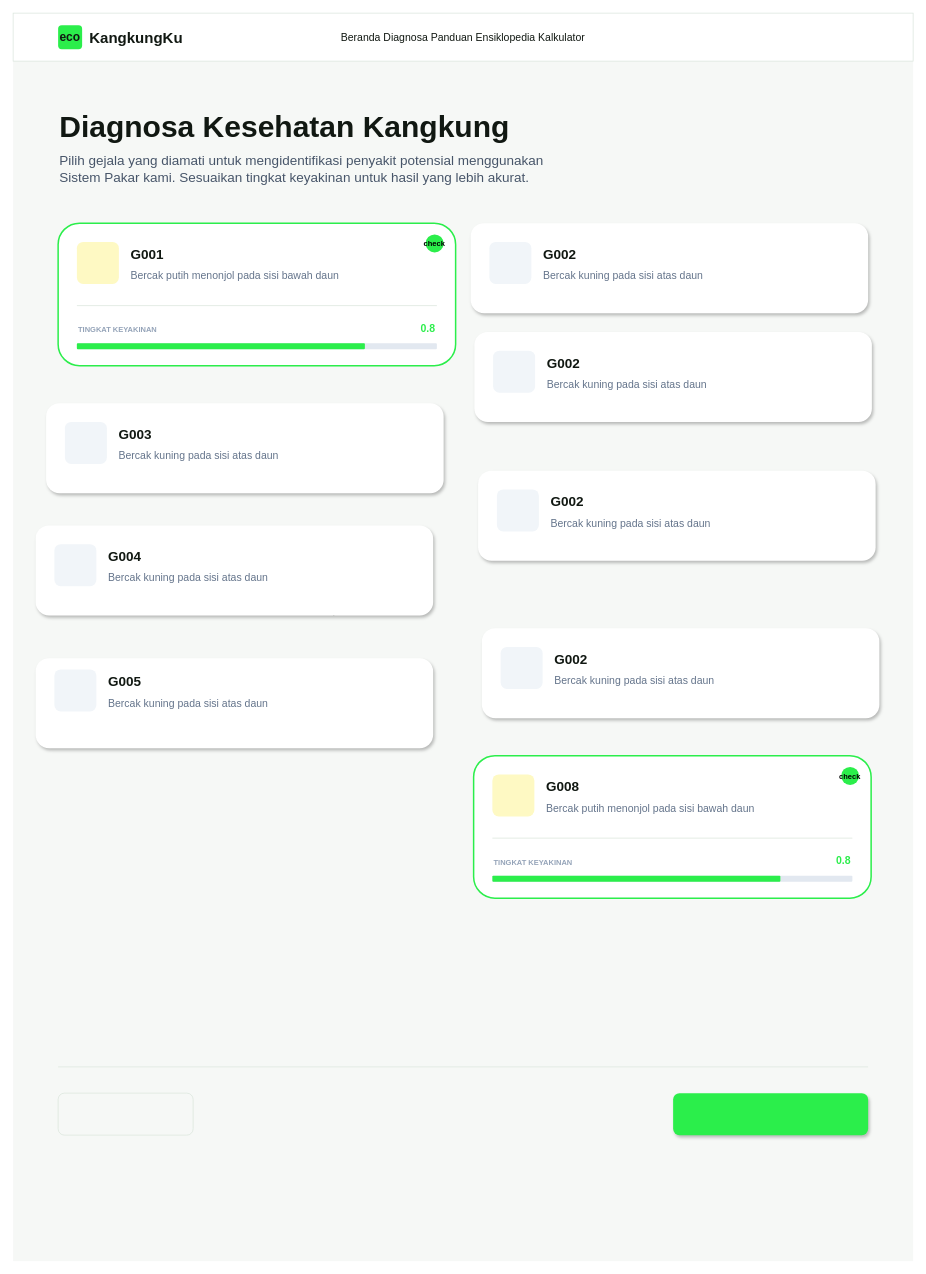
Some shapes in this 926 by 1274 pixel diagram are drawn without their labels. The centre of each missing label's shape, as x and y in pixels:
"Dapatkan Hasil" belongs at [771,1115].
"Kembali" belongs at [125,1113].
